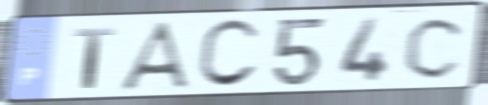4: (336, 14, 393, 85)
5: (269, 16, 329, 89)
A: (115, 19, 198, 92)
C: (194, 16, 264, 91), (400, 14, 470, 81)
T: (70, 25, 118, 91)
